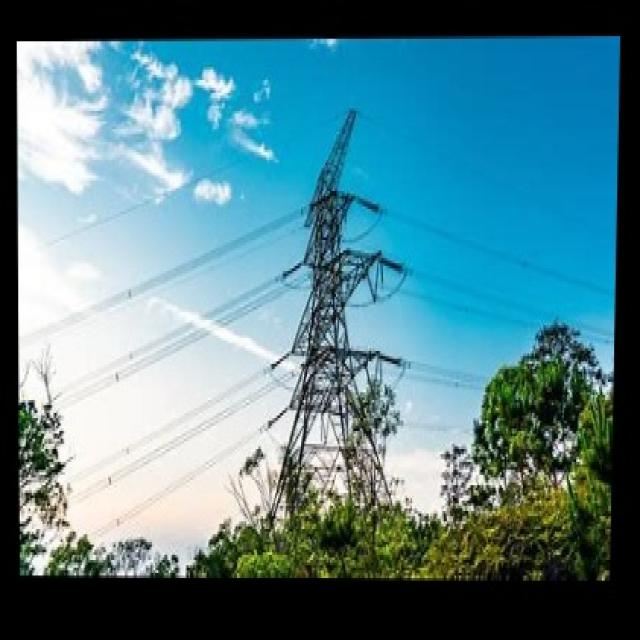utility poles: (455, 271, 584, 452), (316, 314, 408, 486)
